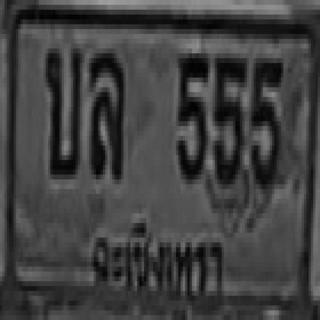A26: (44, 44, 80, 174)
A36: (88, 49, 122, 174)
N05: (249, 53, 281, 189), (212, 53, 245, 184), (176, 49, 206, 180)
P07: (83, 209, 231, 304)
